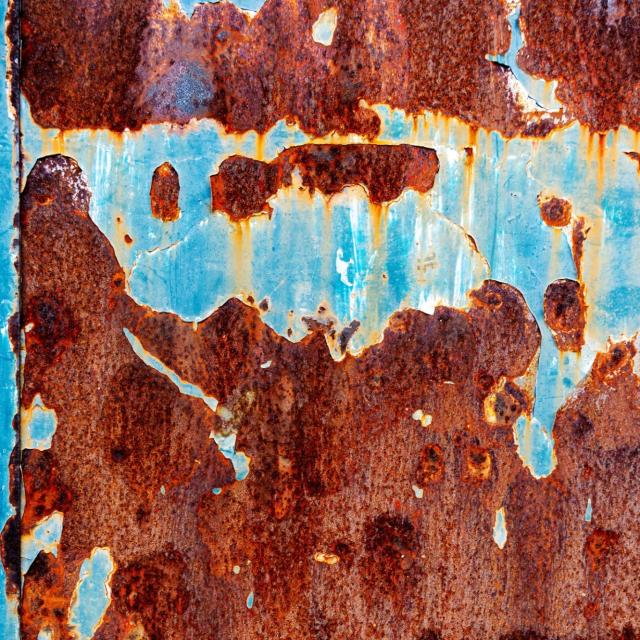Pitting Corrosion: (1, 156, 640, 640), (21, 0, 640, 139), (211, 144, 439, 221), (543, 279, 586, 355), (150, 162, 180, 222), (538, 196, 571, 226)
